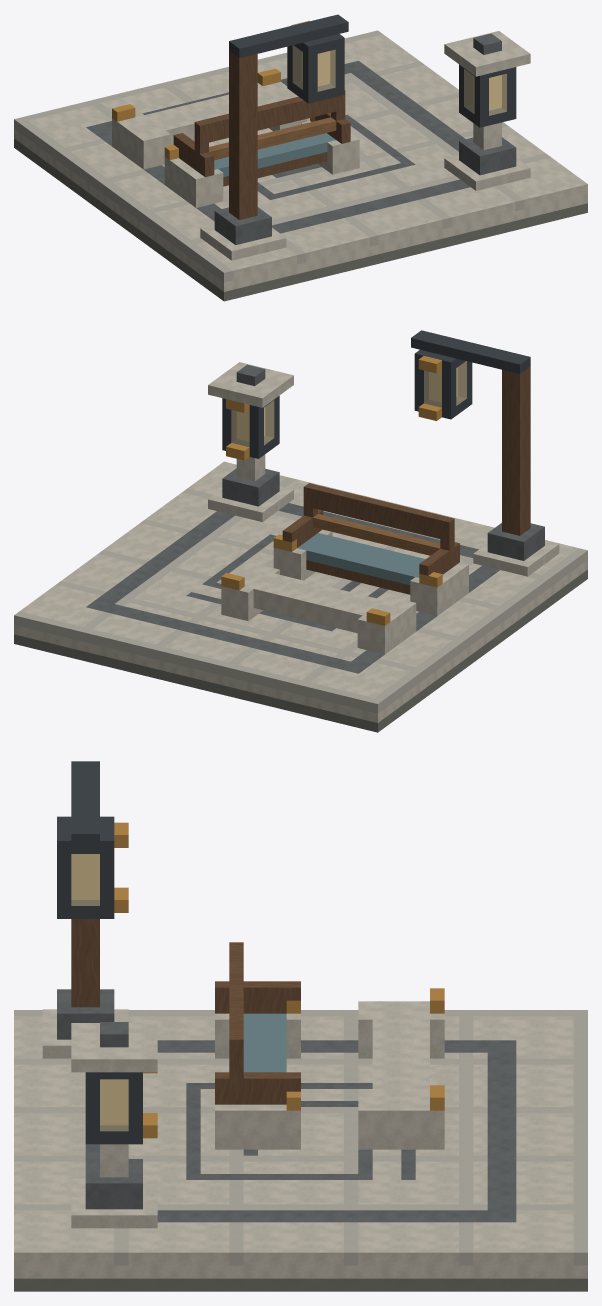
3 renders of one model, top to bottom at view 1: azimuth 30°, elevation 25°; view 2: azimuth 150°, elevation 25°; view 3: azimuth 270°, elevation 25°, orthographic. The views are drawn at different scales.
Visible parts, largest first — view 1: 庭院与观景地坪母版, 独立景观灯杆与石灯母版 (×2), 公共长椅与石凳母版 (×2); view 2: 庭院与观景地坪母版, 公共长椅与石凳母版 (×2), 独立景观灯杆与石灯母版 (×2); view 3: 庭院与观景地坪母版, 独立景观灯杆与石灯母版 (×2), 公共长椅与石凳母版 (×2).
Part boxes in pixels (x1,y1,x2,y2): 庭院与观景地坪母版: (14, 30, 587, 301); 独立景观灯杆与石灯母版 (×2): (200, 14, 530, 260); 公共长椅与石凳母版 (×2): (112, 68, 359, 207); 庭院与观景地坪母版: (14, 461, 587, 732); 公共长椅与石凳母版 (×2): (221, 483, 468, 654); 独立景观灯杆与石灯母版 (×2): (208, 330, 559, 576); 庭院与观景地坪母版: (14, 1010, 587, 1291); 独立景观灯杆与石灯母版 (×2): (42, 761, 157, 1228); 公共长椅与石凳母版 (×2): (215, 942, 444, 1149).
Bounding box in the file's own units: 8 × 4.8 × 8.
Materials: 11 (11 with a texture image).
